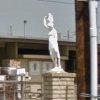Statue: (39, 9, 77, 76)
